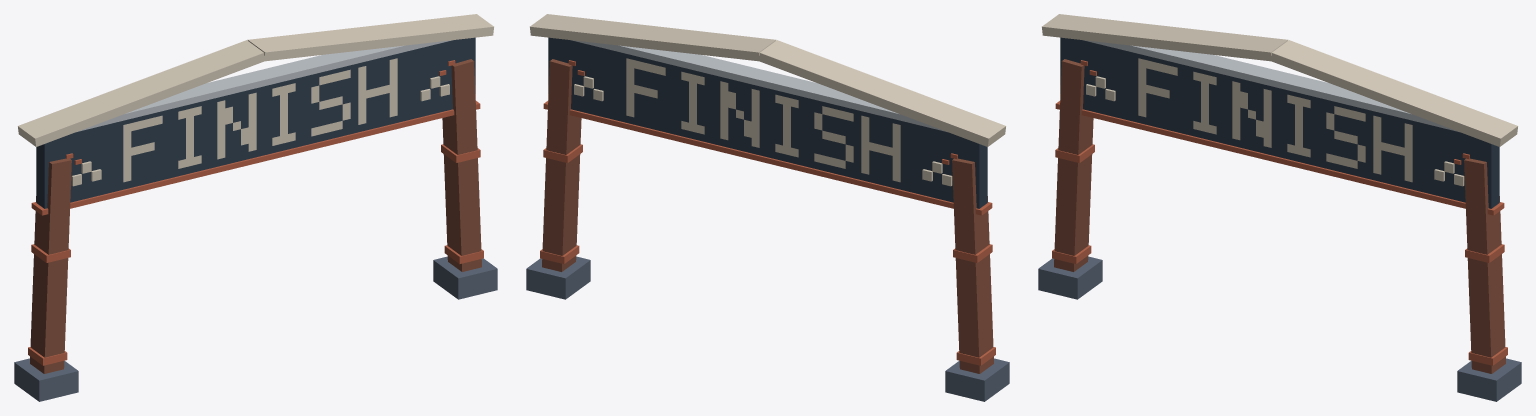
The model's file is finish.glb.
3 views of the same model, side by side, from view 1: azimuth 30°, elevation 25°; view 2: azimuth 150°, elevation 25°; view 3: azimuth 330°, elevation 25° (orthographic).
Parts seen in each view (by area): view 1: finish; view 2: finish; view 3: finish.
Boxes of the visible parts, left/top/right/bottom form: finish: left=14, top=14, right=497, bottom=401; finish: left=526, top=14, right=1009, bottom=401; finish: left=1038, top=14, right=1521, bottom=401.
Bounding box in the file's own units: 9.9 × 5.99 × 0.94.
